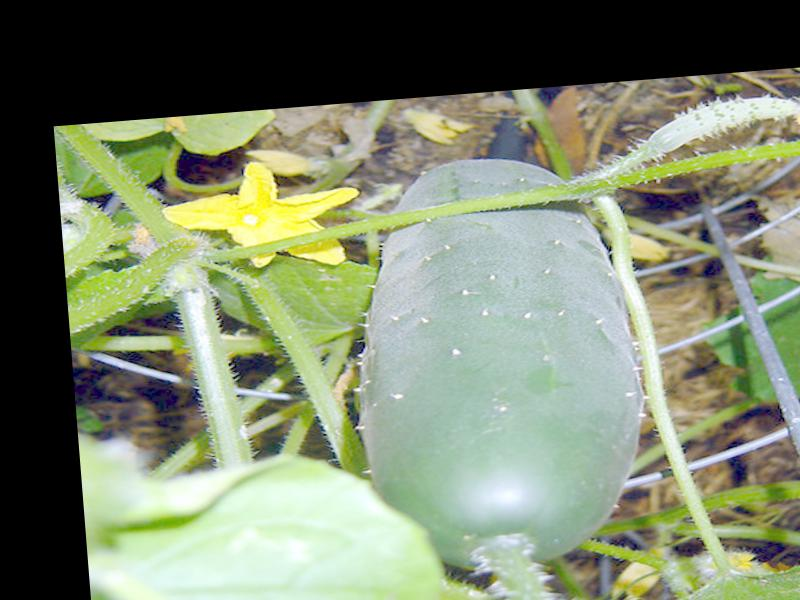Cucumber: (342, 149, 659, 577)
